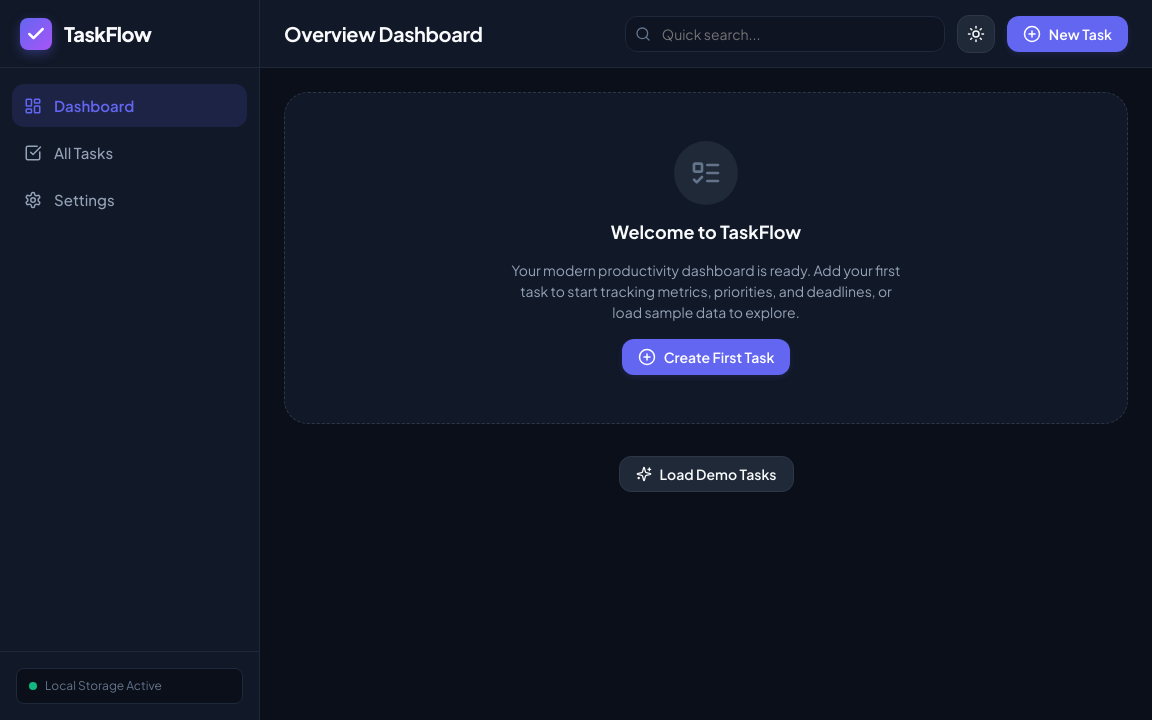
Test: TaskFlow Application Component Integration Tests › creates a new task through the modal form
This screenshot has width=1152, height=720.
Note: Click "New Task" button in header
Click the button "New Task". click: click(1067, 34)
box: [1007,16,1128,52]
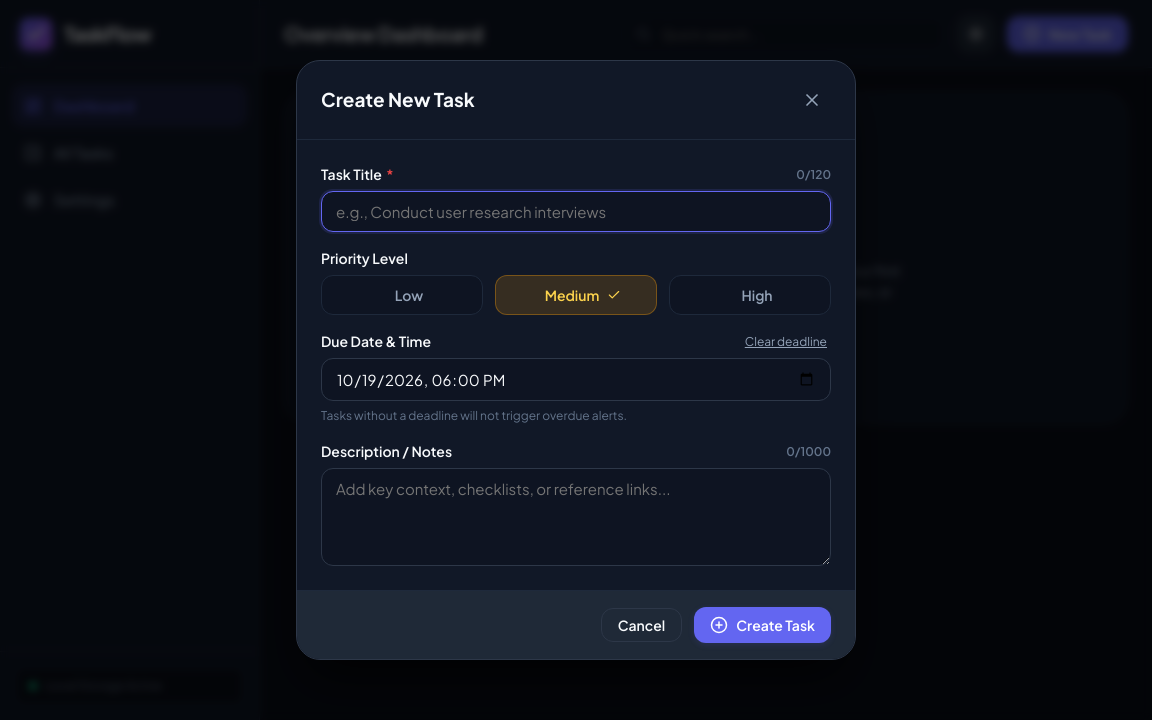
Expected: the dialog "Create New Task" is shown, [296,60,856,660]
Note: Fill Title
Type "Deploy Microservices to Cluster" into the field labelled "Task Title * 0/120". click: (576, 212)
box: [321,191,831,232]
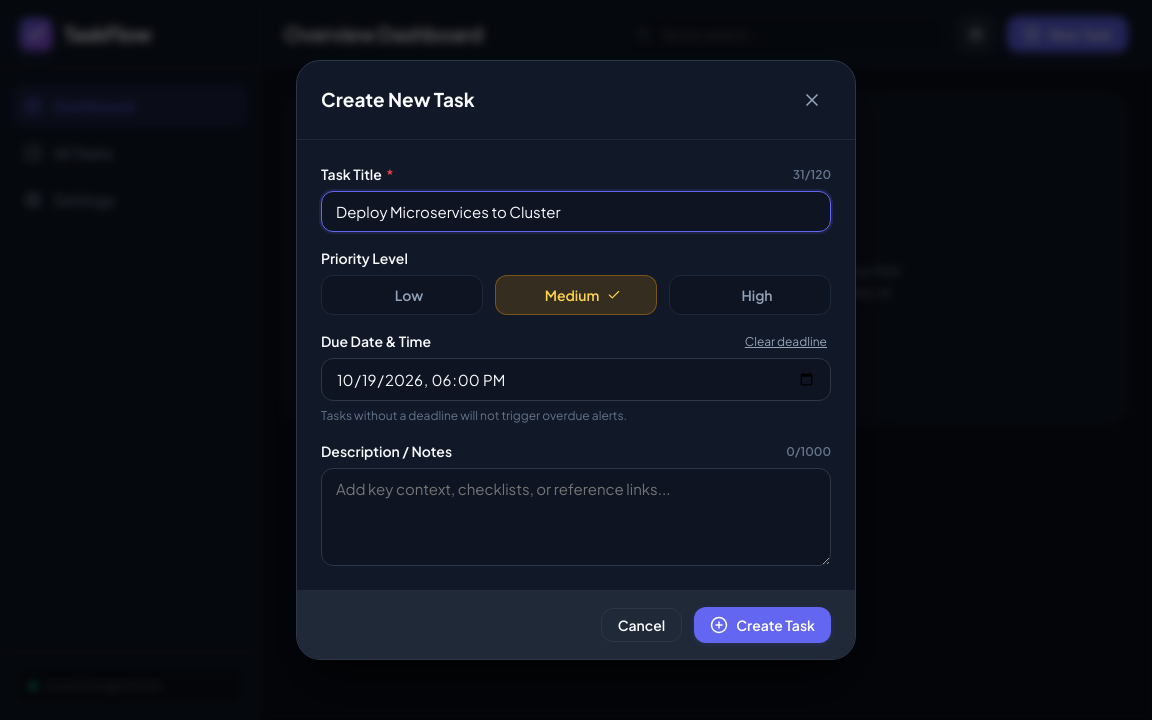
Note: Select Priority: High
Click the radio button labelled "high". click: click(750, 295)
box: [669,275,831,315]
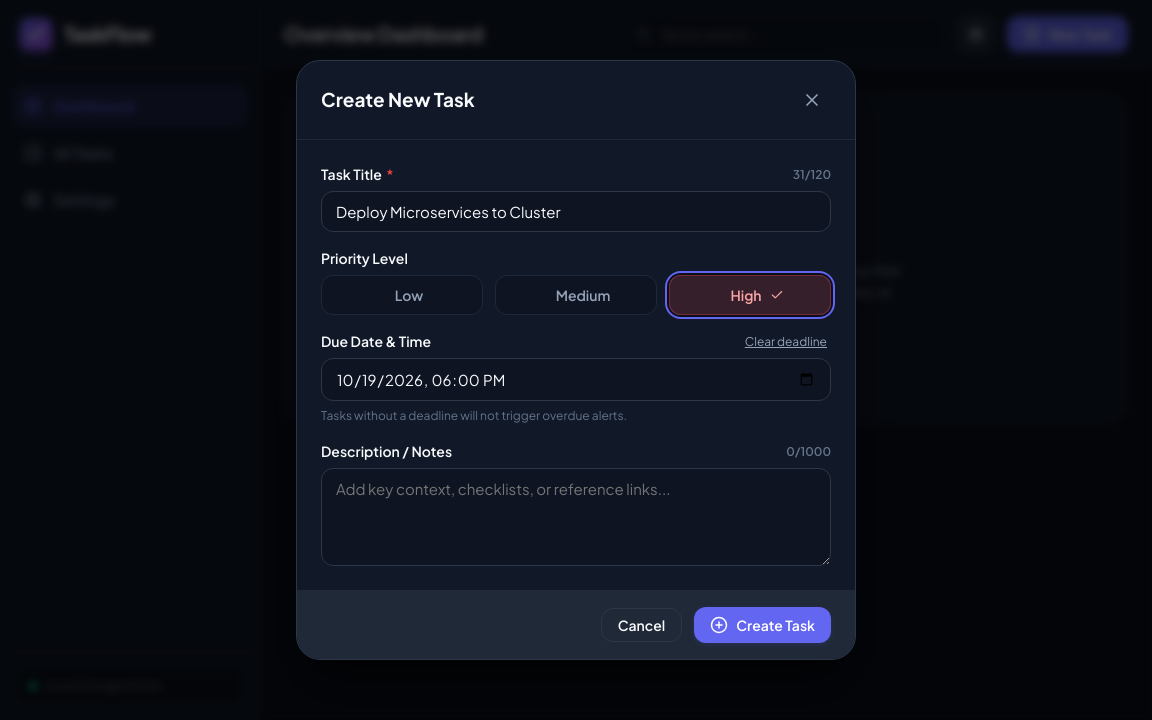
Note: Fill Description
Type "Ensure zero downtime during rolling updates." into the text box labelled "Description / Notes 0/1000". click: (576, 517)
box: [321,468,831,566]
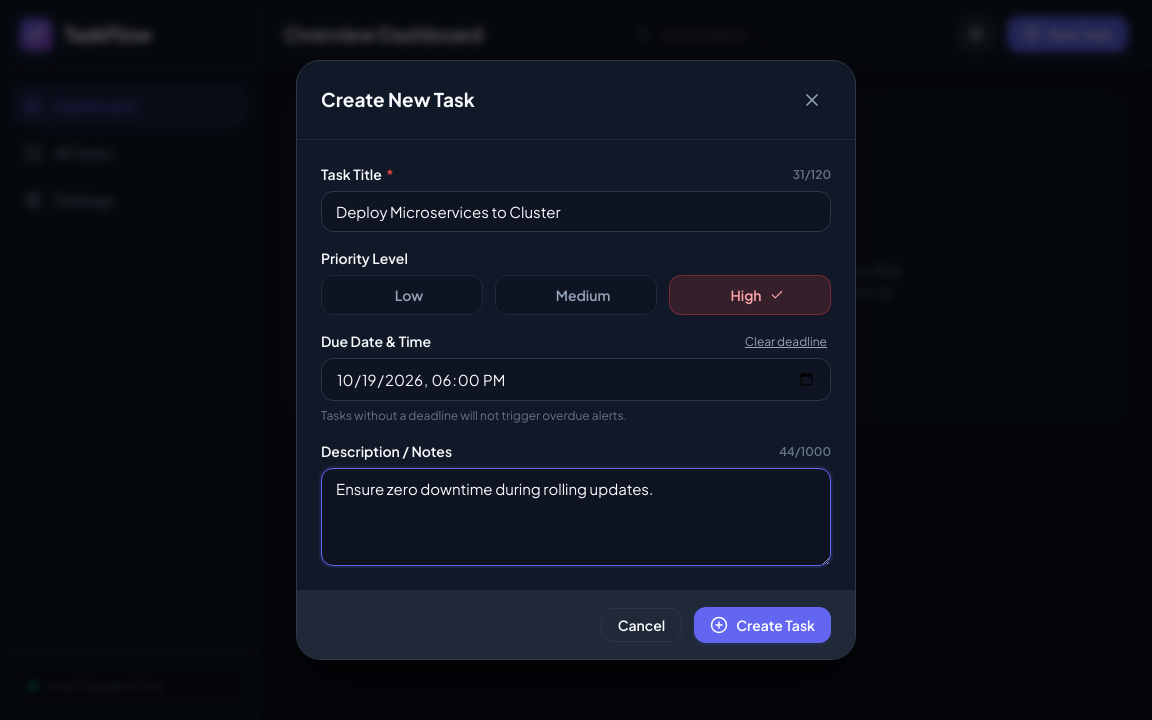
Note: Submit Form
Click the button "Create Task". click: click(763, 625)
box: [694,607,831,643]
(page scrolled)
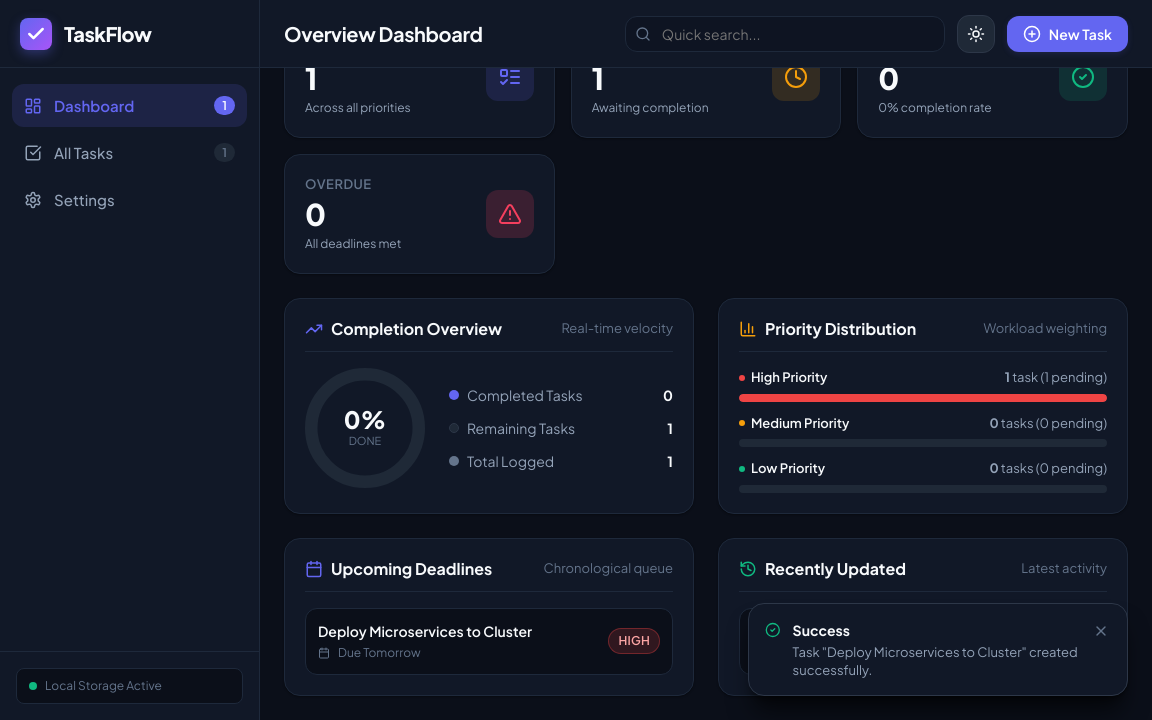
Expected: the dialog is gone
Expected: the text "Total Tasks" is shown, [305,39,393,55]
Expected: the text "Deploy Microservices to Cluster" is shown, [318,620,532,642]
